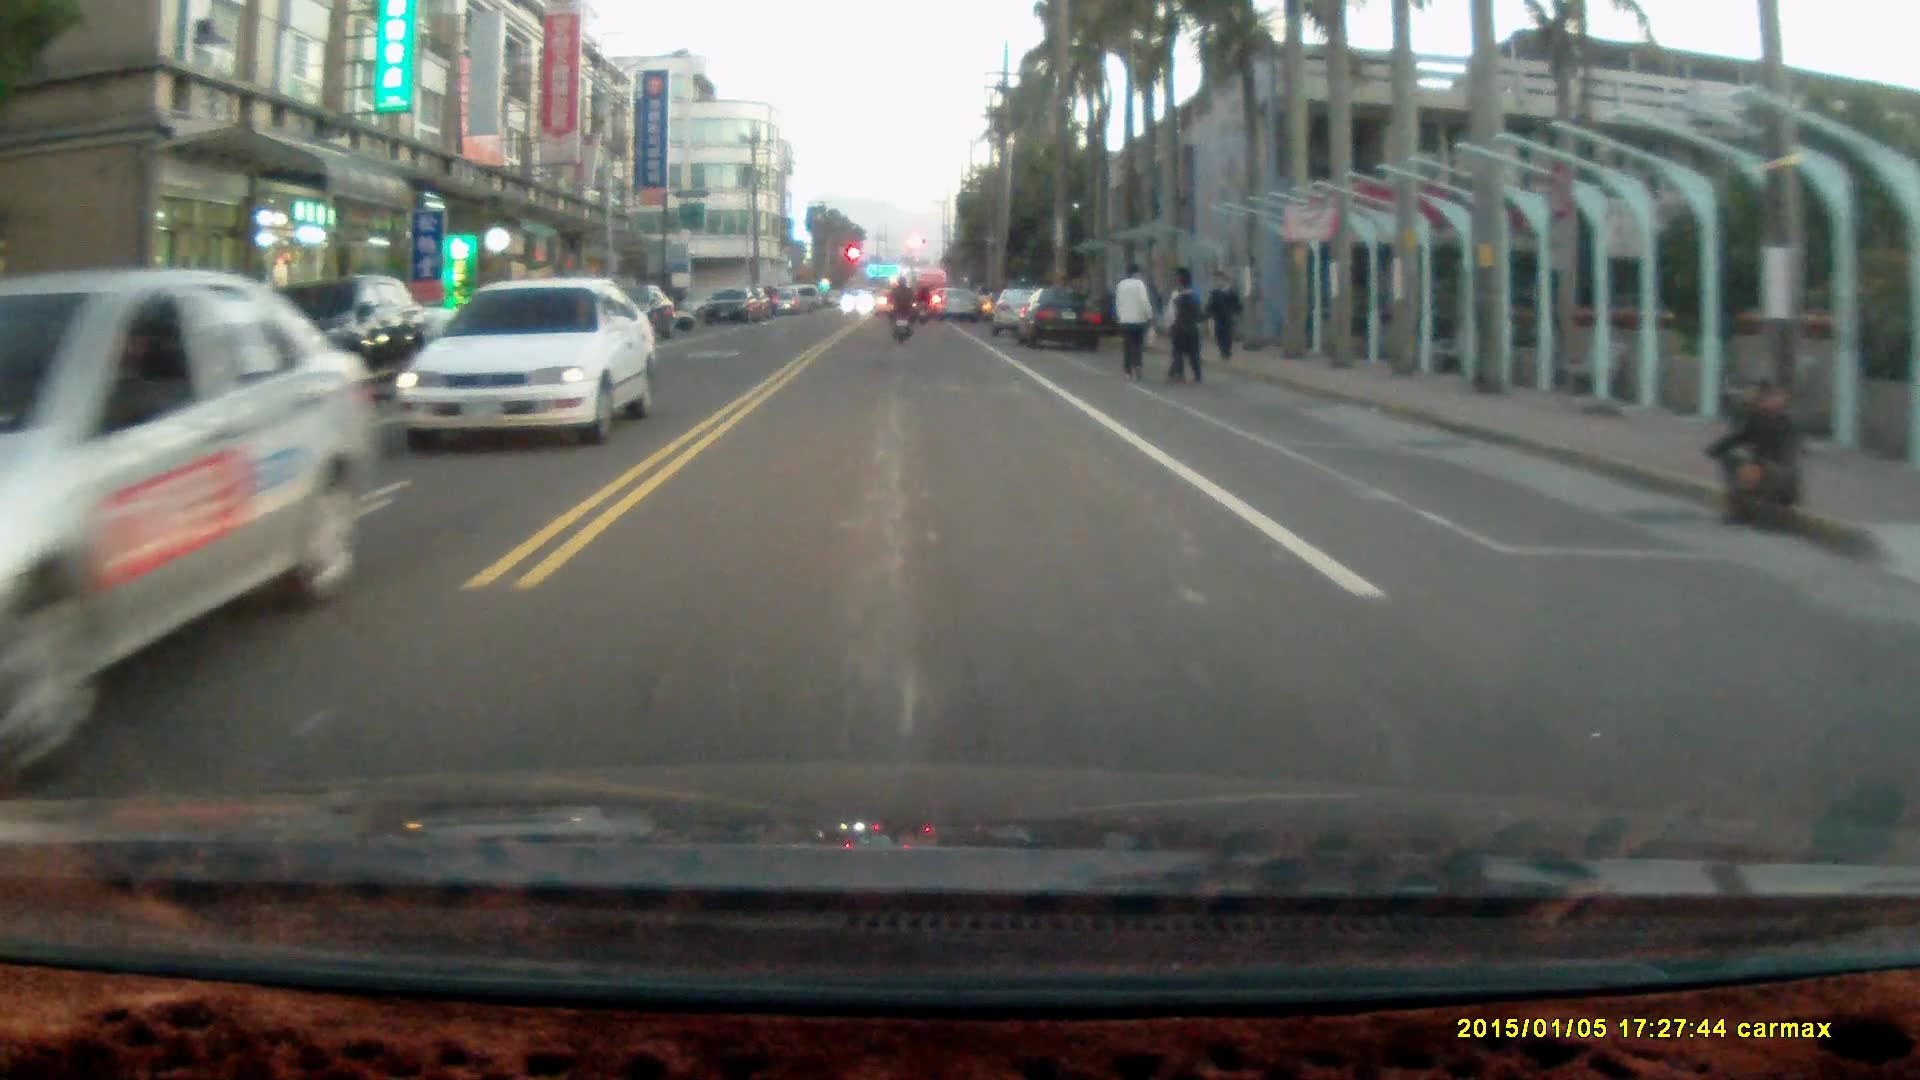pedestrian: (1701, 382, 1807, 532), (1112, 259, 1153, 384), (1166, 277, 1205, 390), (1208, 269, 1243, 364)
rider: (884, 274, 915, 345)
vehicle: (1, 265, 395, 722), (403, 277, 657, 440), (1016, 287, 1106, 350)
